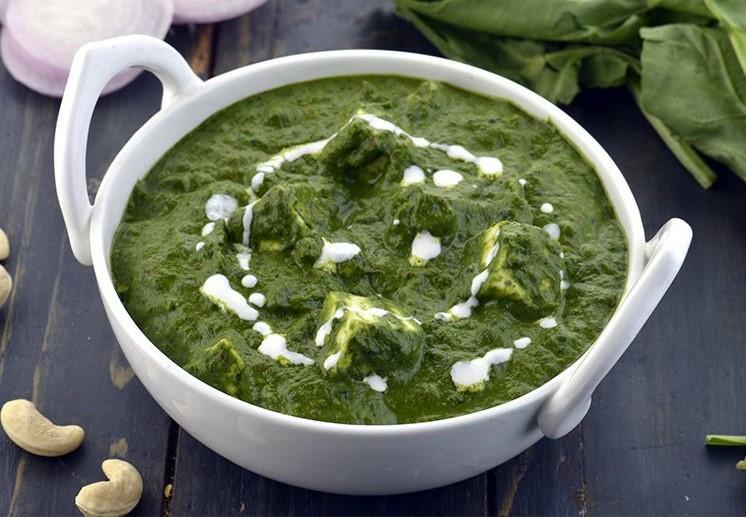PalakPaneer: (112, 74, 628, 425)
